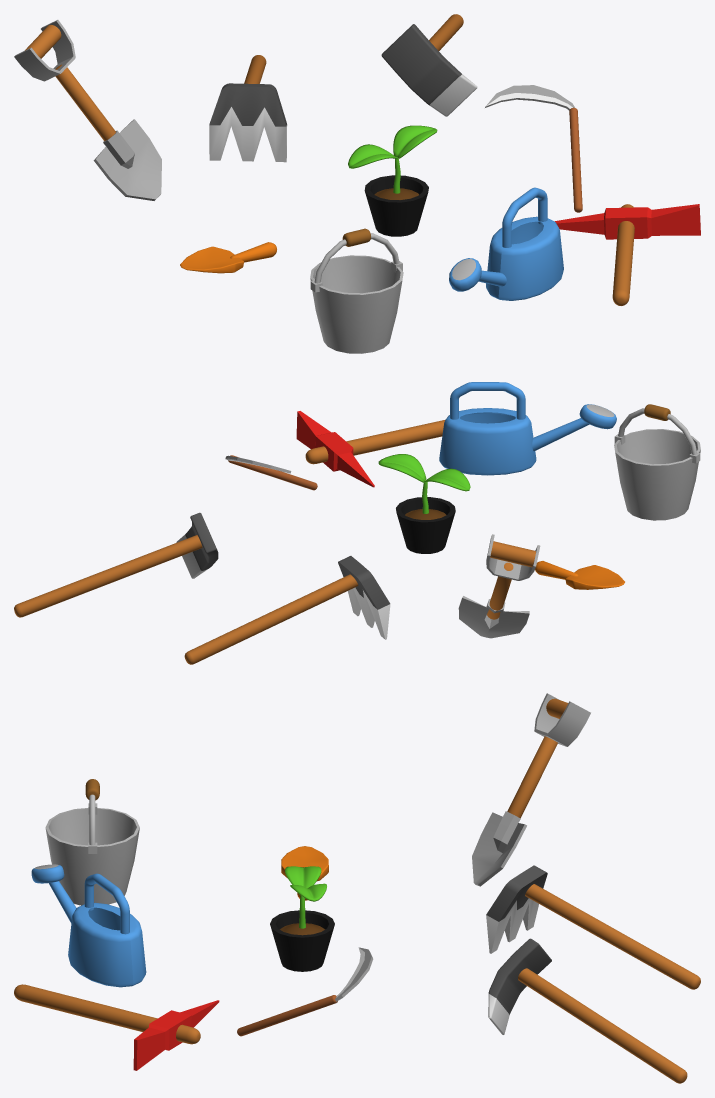
The model's file is farm_tools.fbx.
3 renders of one model, top to bottom at view 1: azimuth 30°, elevation 25°; view 2: azimuth 150°, elevation 25°; view 3: azimuth 270°, elevation 25°, orthographic. The views are drawn at different scales.
Parts seen in each view (by area): view 1: Circle.007, Circle.011, Plane.001, Plane, Plane.002, Plane.004, Circle.015, Plane.003, Circle.010, Circle.002, Cube, Circle.005 (+9 smaller); view 2: Circle.007, Circle.011, Circle, Circle.001, Circle.015, Plane.001, Plane.004, Circle.010, Plane.002, Plane, Circle.012, Cube (+10 smaller); view 3: Circle.007, Circle.011, Circle.001, Circle, Circle.010, Plane.001, Circle.015, Plane, Plane.002, Plane.004, Plane.003, Circle.002 (+5 smaller).
Part boxes in pixels (box(x1,y1,x2,y2)): Circle.007: box(310, 255, 403, 353); Circle.011: box(486, 216, 563, 300); Plane.001: box(209, 83, 287, 162); Plane: box(381, 24, 477, 116); Plane.002: box(93, 119, 161, 200); Plane.004: box(555, 204, 700, 239); Circle.015: box(364, 175, 428, 236); Plane.003: box(14, 20, 75, 81); Circle.010: box(612, 204, 634, 305); Circle.002: box(55, 64, 115, 141); Cube: box(180, 246, 243, 273); Circle.005: box(485, 85, 574, 110); Circle.007: box(614, 429, 700, 520); Circle.011: box(439, 408, 536, 475); Circle: box(14, 535, 202, 617); Circle.001: box(184, 574, 358, 664); Circle.015: box(396, 497, 455, 553); Plane.001: box(338, 556, 390, 639); Plane.004: box(296, 411, 374, 487); Circle.010: box(305, 419, 445, 464); Plane.002: box(458, 596, 529, 638); Plane: box(176, 512, 218, 578); Circle.012: box(450, 382, 525, 419); Cube: box(565, 565, 624, 589); Circle.007: box(45, 808, 139, 905); Circle.011: box(68, 902, 146, 987); Circle.001: box(525, 884, 700, 989); Circle: box(518, 968, 687, 1083); Circle.010: box(14, 984, 200, 1044); Plane.001: box(486, 865, 547, 953); Circle.015: box(270, 910, 334, 971); Plane: box(488, 938, 551, 1034); Plane.002: box(472, 811, 526, 886); Plane.004: box(133, 1000, 219, 1070); Plane.003: box(534, 693, 590, 746); Circle.002: box(507, 736, 557, 818).
Size of the model in its own units: 1.93 by 0.5852 by 2.26.
